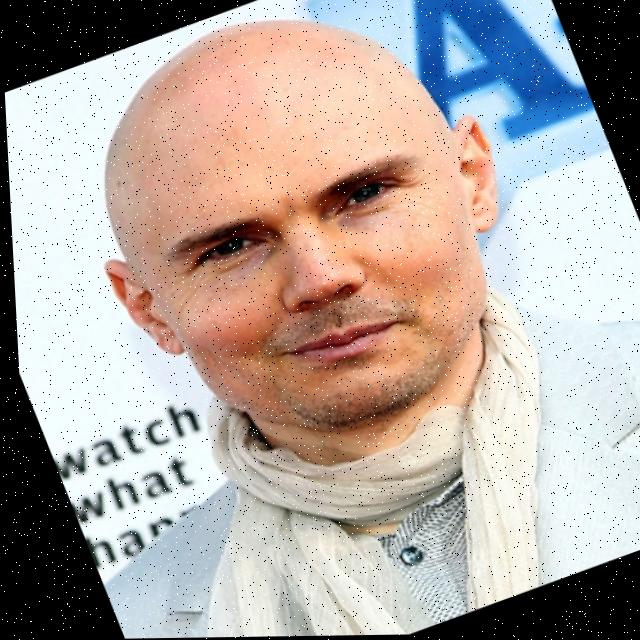beard: (258, 295, 440, 433)
